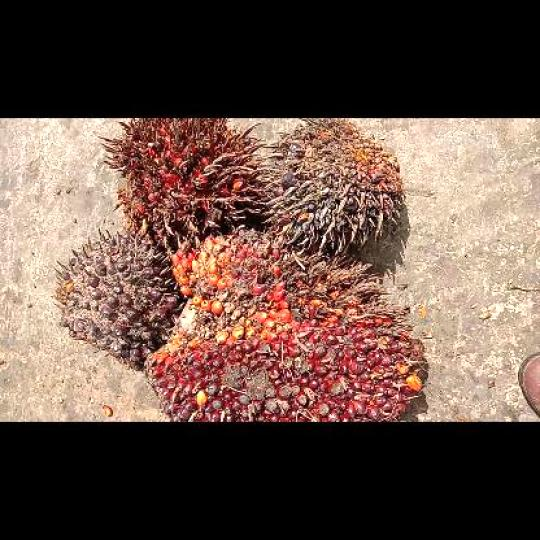kurang masak: (53, 229, 186, 371)
masak: (145, 229, 429, 420)
terlalu masak: (101, 118, 260, 235)
